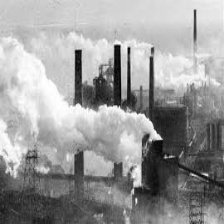smoke: (1, 101, 157, 165)
